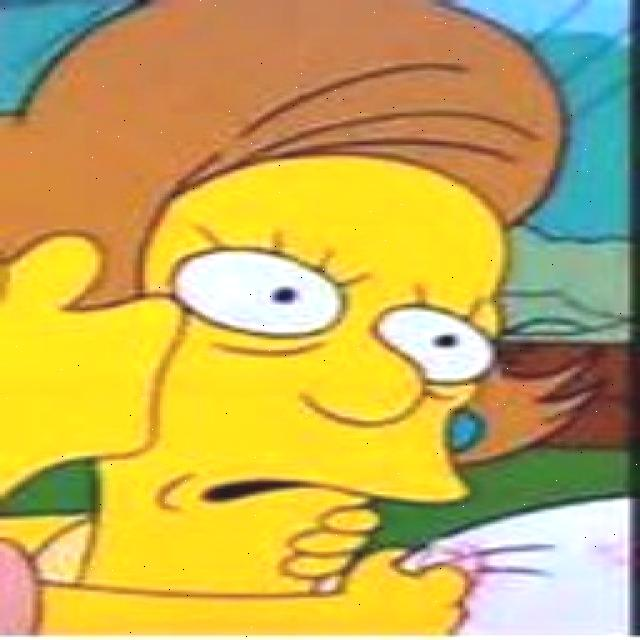Edna Krappel: (0, 0, 600, 597)
